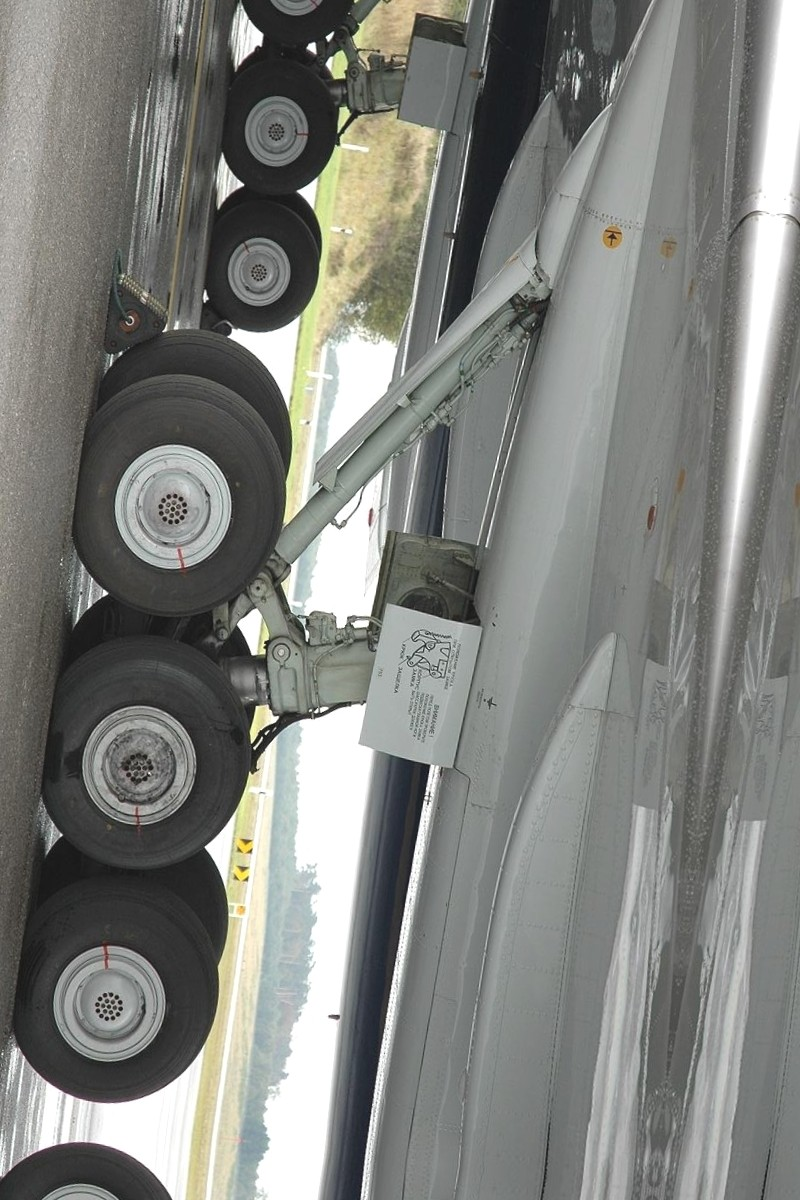chock: (97, 263, 177, 366), (196, 300, 239, 342)
wheel: (60, 357, 302, 632), (27, 623, 264, 884), (0, 874, 232, 1119), (212, 50, 343, 198), (199, 194, 331, 339), (231, 0, 365, 53)
